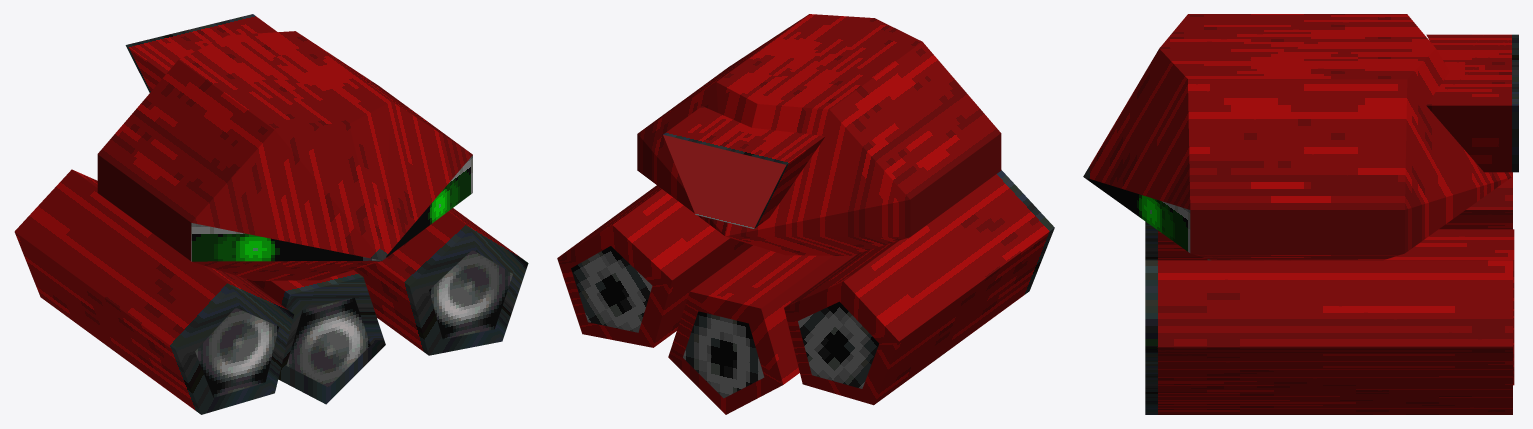
Rendered from model_049_robot_boss.glb.
The picture shows the model from 3 angles, left to right: view 1: azimuth 30°, elevation 25°; view 2: azimuth 150°, elevation 25°; view 3: azimuth 270°, elevation 25°; orthographic projection. The views are drawn at different scales.
Parts seen in each view (by area): view 1: model_049; view 2: model_049; view 3: model_049.
Boxes of the visible parts, box(x1,y1,x2,y2) form: model_049: box(14, 14, 528, 414); model_049: box(557, 14, 1054, 414); model_049: box(1083, 14, 1518, 414).
Bounding box in the file's own units: 20 × 16 × 18.71.
Materials: 5 (5 with a texture image).
